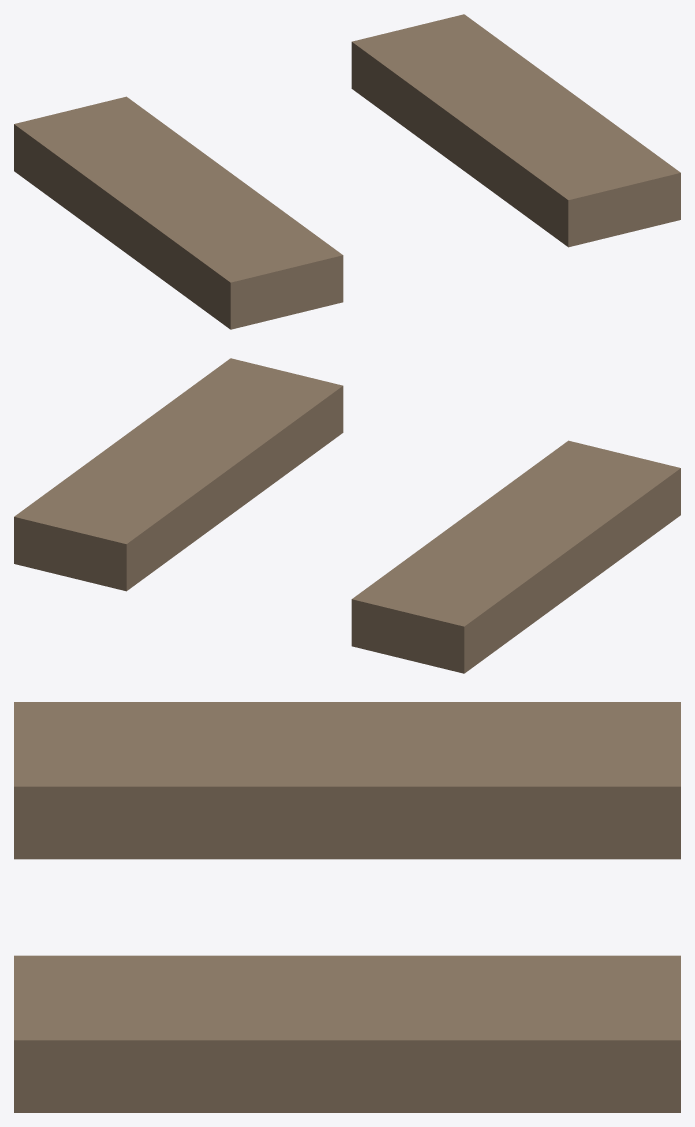
File: canal.glb
3 views of the same model, one above another, from view 1: azimuth 30°, elevation 25°; view 2: azimuth 150°, elevation 25°; view 3: azimuth 270°, elevation 25° (orthographic). The views are drawn at different scales.
Parts seen in each view (by area): view 1: MudBankL_Node, MudBankR_Node; view 2: MudBankL_Node, MudBankR_Node; view 3: MudBankL_Node, MudBankR_Node.
Part boxes in pixels (<box>): MudBankL_Node: <box>14,96,343,329</box>; MudBankR_Node: <box>351,14,680,247</box>; MudBankL_Node: <box>351,440,680,673</box>; MudBankR_Node: <box>14,358,343,591</box>; MudBankL_Node: <box>14,702,680,859</box>; MudBankR_Node: <box>14,955,680,1112</box>.
Bounding box in the file's own units: 12 × 1.2 × 10.
